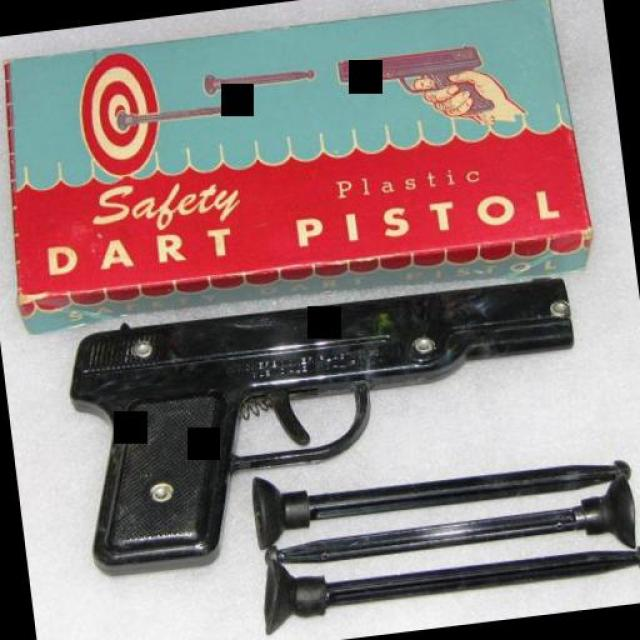gun: (56, 261, 595, 569)
